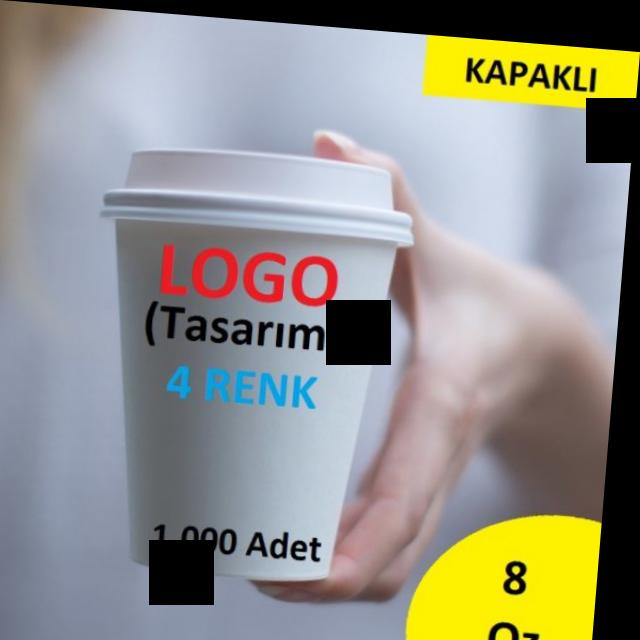karton-bardak: (75, 130, 426, 630)
